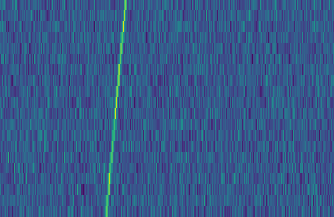signal: (99, 0, 128, 217)
